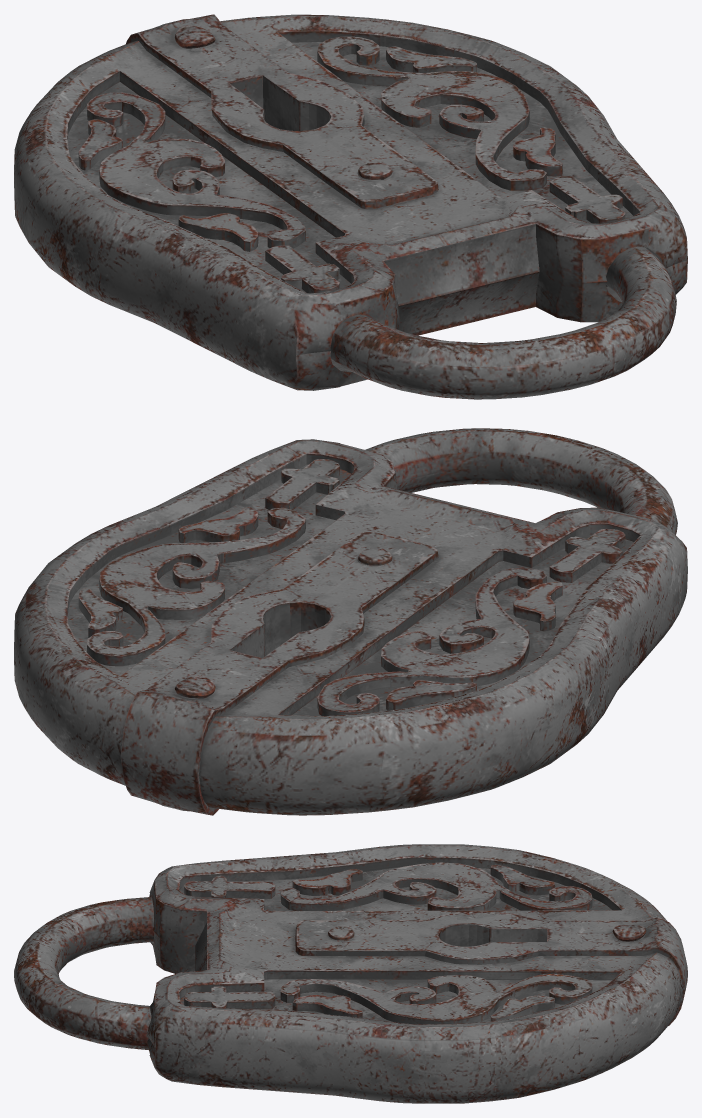
File: old_lock.glb
3 renders of one model, top to bottom at view 1: azimuth 30°, elevation 25°; view 2: azimuth 150°, elevation 25°; view 3: azimuth 270°, elevation 25°, orthographic. The views are drawn at different scales.
Parts seen in each view (by area): view 1: BezierCurve.003; view 2: BezierCurve.003; view 3: BezierCurve.003.
Boxes of the visible parts, bbox=[...] form: BezierCurve.003: bbox=[14, 14, 687, 399]; BezierCurve.003: bbox=[14, 428, 687, 815]; BezierCurve.003: bbox=[14, 844, 687, 1103].
Size of the model in its own units: 0.0644 by 0.0136 by 0.0909.
1 material, 1 textured.
